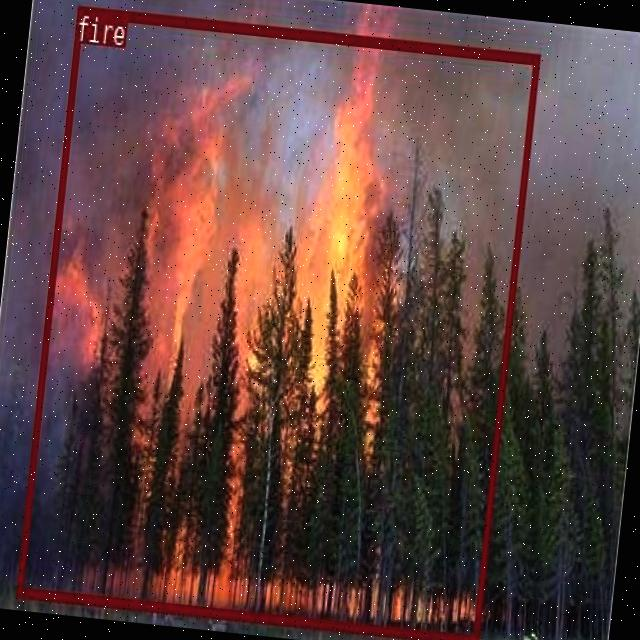fire: (14, 4, 539, 640)
